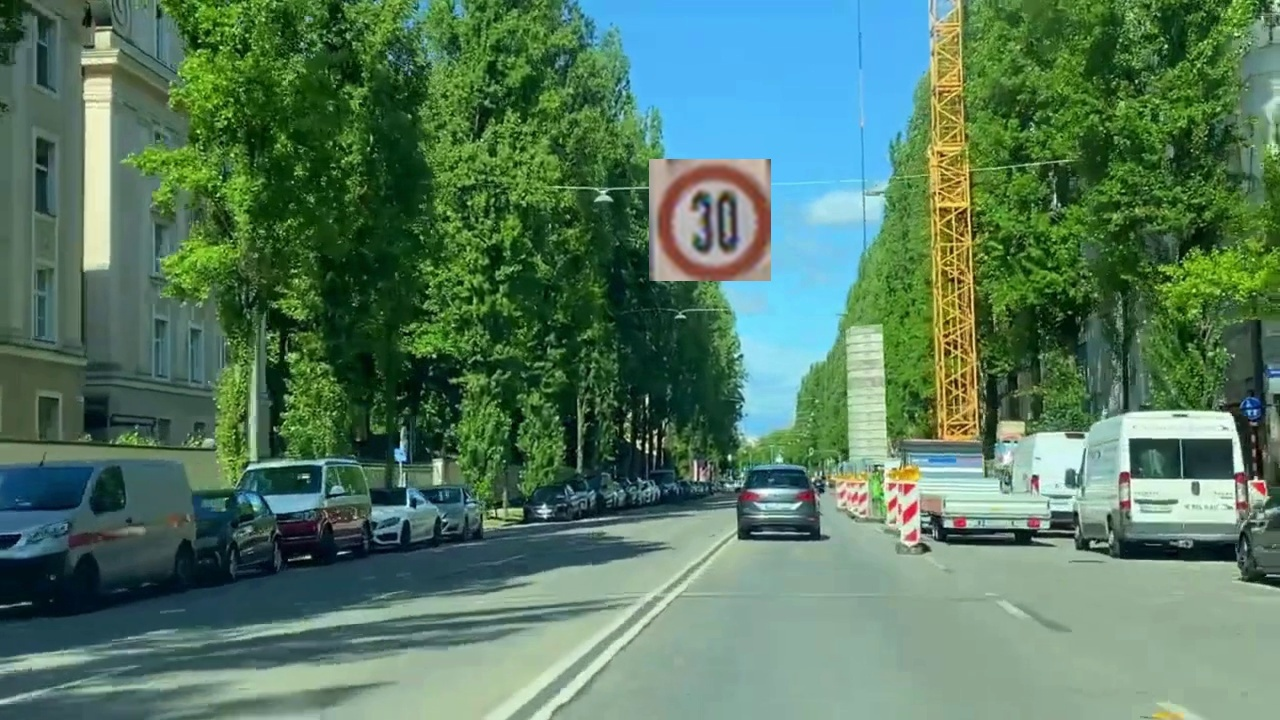Speed 30: (649, 159, 771, 281)
